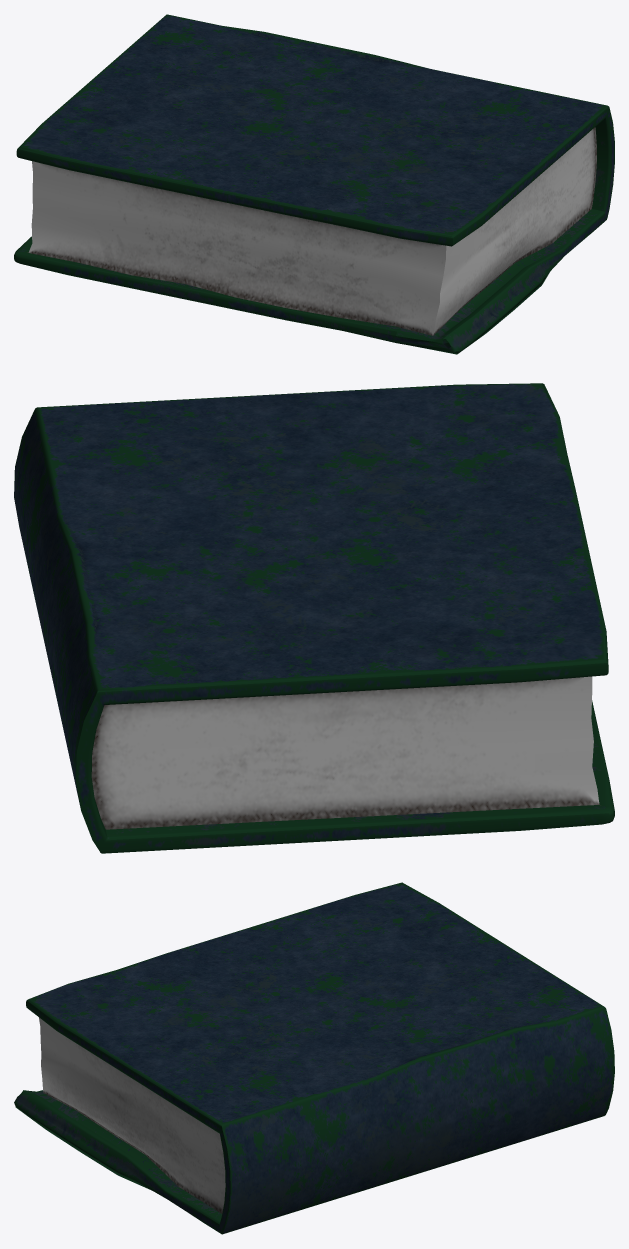
3 views of the same model, one above another, from view 1: azimuth 30°, elevation 25°; view 2: azimuth 150°, elevation 25°; view 3: azimuth 270°, elevation 25° (orthographic). The views are drawn at different scales.
Visible parts, largest first — view 1: pCube19; view 2: pCube19; view 3: pCube19.
Boxes of the visible parts, x1,y1,x2,y2 form: pCube19: (14, 14, 614, 354); pCube19: (14, 383, 614, 853); pCube19: (14, 882, 614, 1234).
Bounding box in the file's own units: 64.55 × 15.23 × 68.28.
Materials: 1 (1 with a texture image).
